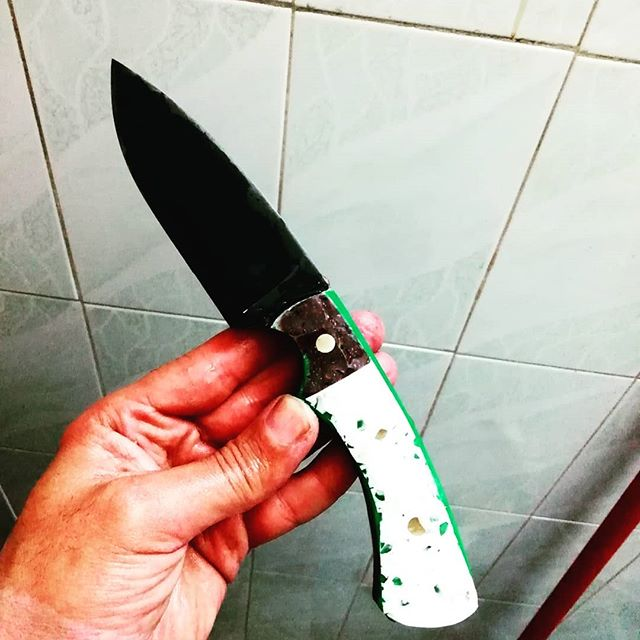knife: (111, 58, 480, 628)
